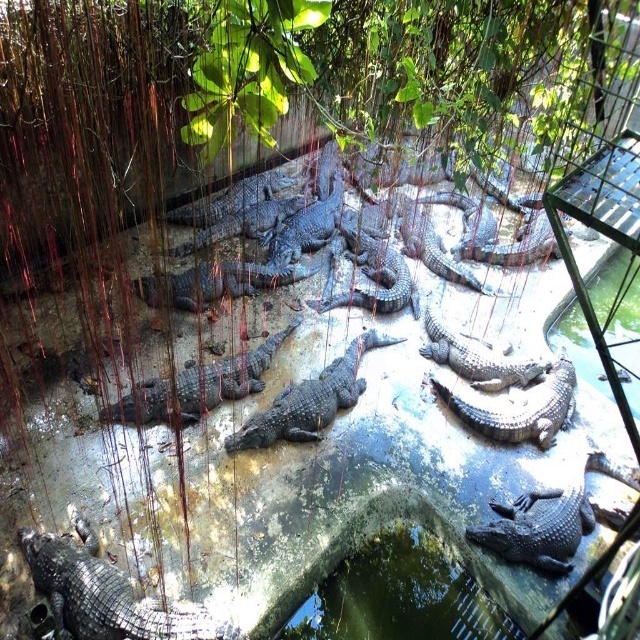Crocodile: (17, 101, 640, 640)
